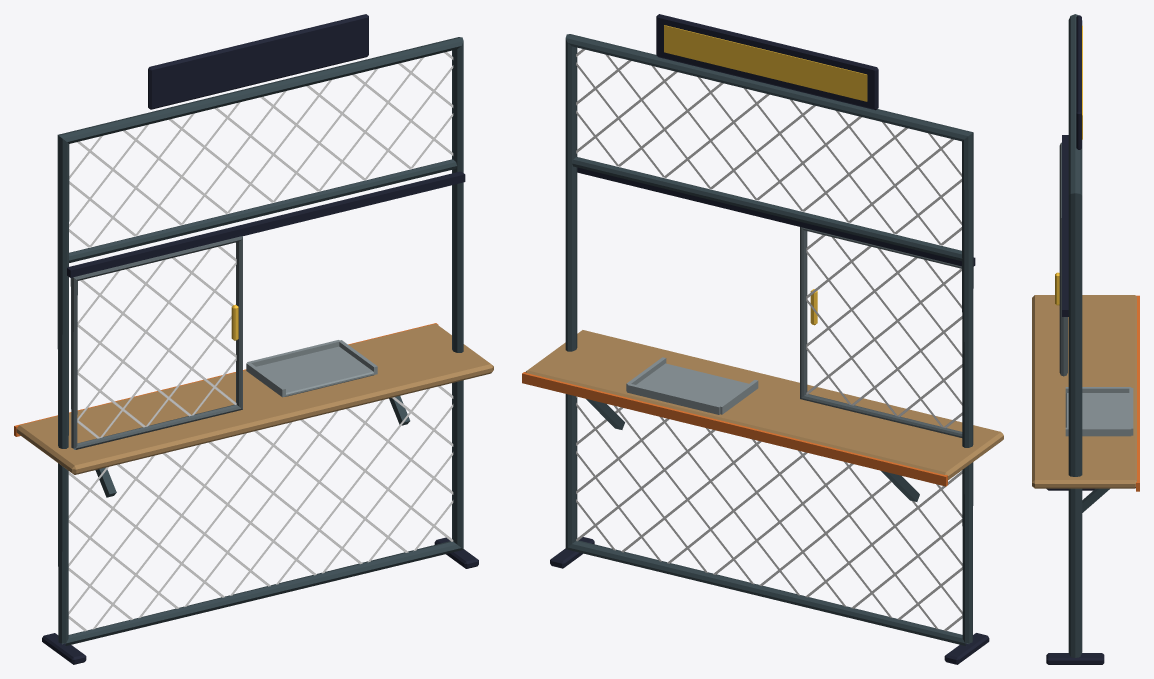
The model's file is sm_env_depot_cage_window.glb.
The picture shows the model from 3 angles, left to right: view 1: azimuth 30°, elevation 25°; view 2: azimuth 150°, elevation 25°; view 3: azimuth 270°, elevation 25°; orthographic projection. The views are drawn at different scales.
Visible parts, largest first — view 1: Counter, Frame, MeshLow, SignBoard, MeshHigh, GrilleTrack, Frame.001, Lintel, GrilleMesh, Tray; view 2: Frame, Counter, MeshLow, MeshHigh, SignBoardFace, CounterEdge, SignBoard, Lintel, GrilleMesh, Frame.001, Tray, GrilleTrack (+1 smaller); view 3: Counter, Frame, Tray, GrilleTrack, Frame.001, SignBoard, Foot.001, CounterEdge, TrayLip.001, TrayLip, CounterBracket.001, TrayLipFront.
Boxes of the visible parts, left/top/right/bottom form: Counter: left=16, top=323, right=493, bottom=474; Frame: left=57, top=37, right=463, bottom=646; MeshLow: left=68, top=386, right=453, bottom=631; SignBoard: left=148, top=14, right=368, bottom=109; MeshHigh: left=69, top=52, right=453, bottom=247; GrilleTrack: left=67, top=171, right=465, bottom=277; Frame.001: left=70, top=236, right=242, bottom=449; Lintel: left=68, top=159, right=456, bottom=262; GrilleMesh: left=77, top=246, right=236, bottom=438; Tray: left=256, top=346, right=374, bottom=396; Frame: left=565, top=34, right=973, bottom=645; Counter: left=525, top=330, right=1003, bottom=479; MeshLow: left=576, top=396, right=962, bottom=631; MeshHigh: left=576, top=49, right=961, bottom=245; SignBoardFace: left=664, top=25, right=867, bottom=101; CounterEdge: left=522, top=372, right=947, bottom=486; SignBoard: left=656, top=14, right=878, bottom=110; Lintel: left=572, top=157, right=962, bottom=261; GrilleMesh: left=806, top=235, right=962, bottom=427; Frame.001: left=800, top=227, right=962, bottom=437; Tray: left=636, top=363, right=748, bottom=405; GrilleTrack: left=577, top=167, right=975, bottom=266; Counter: left=1032, top=295, right=1136, bottom=488; Frame: left=1068, top=14, right=1082, bottom=657; Tray: left=1065, top=393, right=1129, bottom=427; GrilleTrack: left=1062, top=135, right=1068, bottom=316; Frame.001: left=1059, top=142, right=1067, bottom=376; SignBoard: left=1076, top=15, right=1081, bottom=149; Foot.001: left=1046, top=653, right=1104, bottom=664; CounterEdge: left=1136, top=295, right=1139, bottom=491; TrayLip.001: left=1065, top=427, right=1131, bottom=436; TrayLip: left=1065, top=387, right=1131, bottom=393; CounterBracket.001: left=1082, top=488, right=1109, bottom=512; TrayLipFront: left=1129, top=388, right=1133, bottom=435.
Size of the model in its own units: 2.3 by 2.93 by 0.56.
8 materials, 1 textured.
